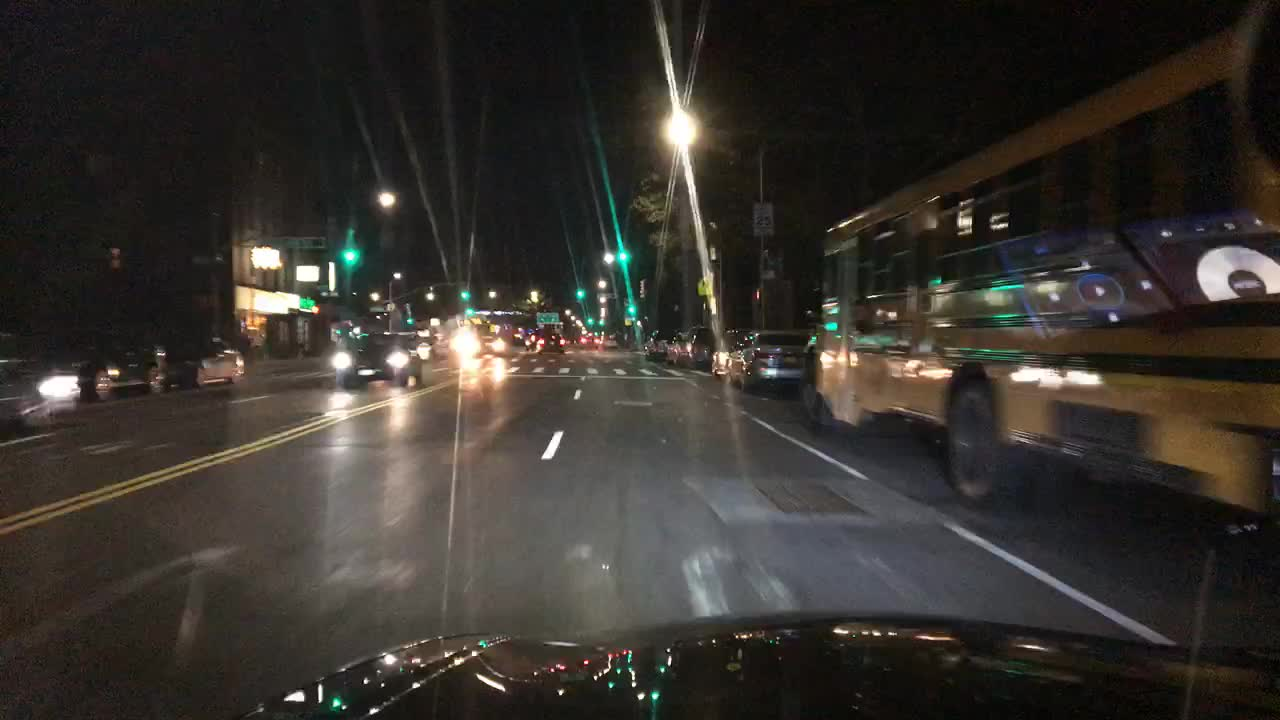bus: (801, 3, 1278, 557)
car: (726, 329, 815, 397), (96, 339, 197, 397), (336, 329, 426, 386), (171, 336, 246, 386), (0, 361, 46, 431), (38, 357, 94, 402), (708, 327, 751, 381), (459, 323, 508, 357), (685, 323, 718, 369), (639, 327, 678, 360), (659, 330, 692, 364), (410, 329, 433, 365), (430, 330, 456, 360), (536, 332, 564, 355), (503, 325, 529, 346), (599, 334, 620, 351), (524, 332, 538, 355), (578, 332, 596, 348), (562, 334, 575, 348)
traffic light: (340, 249, 360, 267), (613, 248, 630, 265), (454, 286, 470, 300), (623, 302, 639, 316), (749, 287, 765, 301), (463, 305, 480, 318), (571, 286, 585, 300), (309, 303, 323, 317), (328, 325, 344, 337), (638, 278, 648, 297), (581, 316, 595, 328), (597, 318, 608, 332), (402, 316, 417, 326)
traffic sign: (277, 236, 326, 251), (751, 202, 773, 225), (695, 277, 714, 297), (534, 311, 558, 323), (366, 304, 391, 312), (751, 227, 775, 234), (763, 270, 777, 279)
